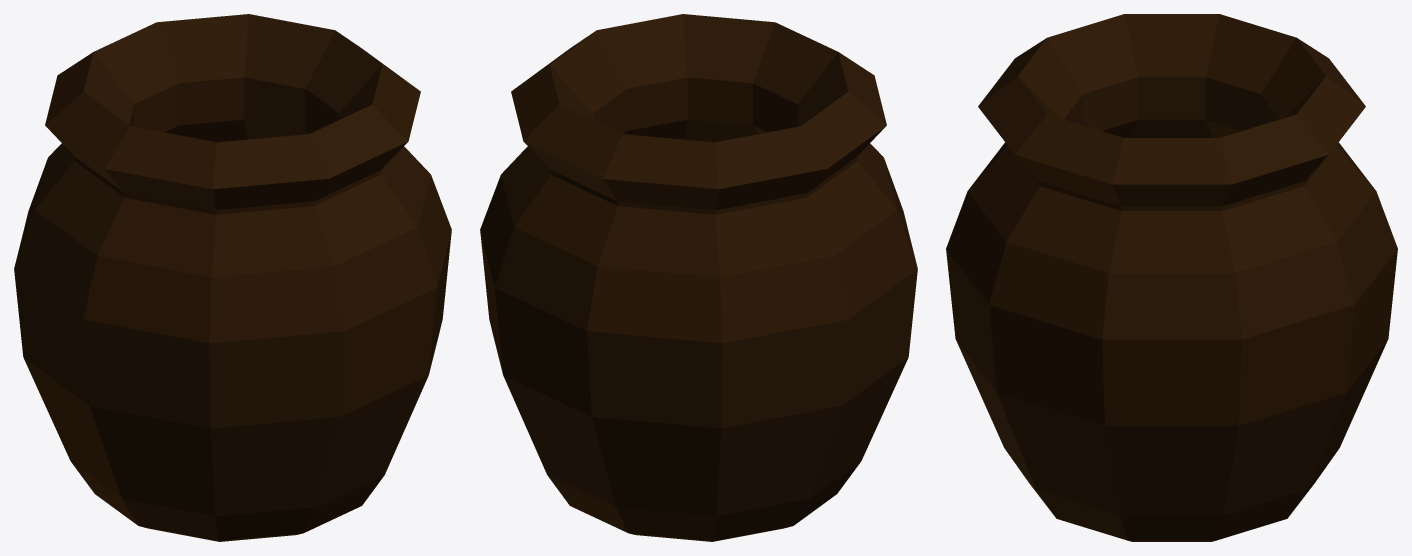
Rendered from Small_Pot_(Outlined)v005.fbx.
3 views of the same model, side by side, from view 1: azimuth 30°, elevation 25°; view 2: azimuth 150°, elevation 25°; view 3: azimuth 270°, elevation 25° (orthographic).
Parts seen in each view (by area): view 1: Cylinder; view 2: Cylinder; view 3: Cylinder.
Part boxes in pixels (x1,y1,x2,y2): Cylinder: (14,14,451,541); Cylinder: (480,14,917,541); Cylinder: (946,14,1397,541).
Size of the model in its own units: 1.93 by 2.05 by 2.03.
